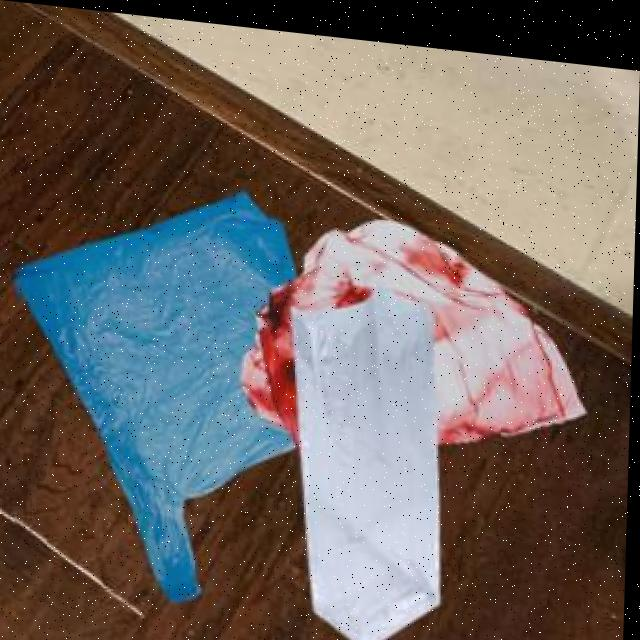litter: (23, 267, 196, 592)
